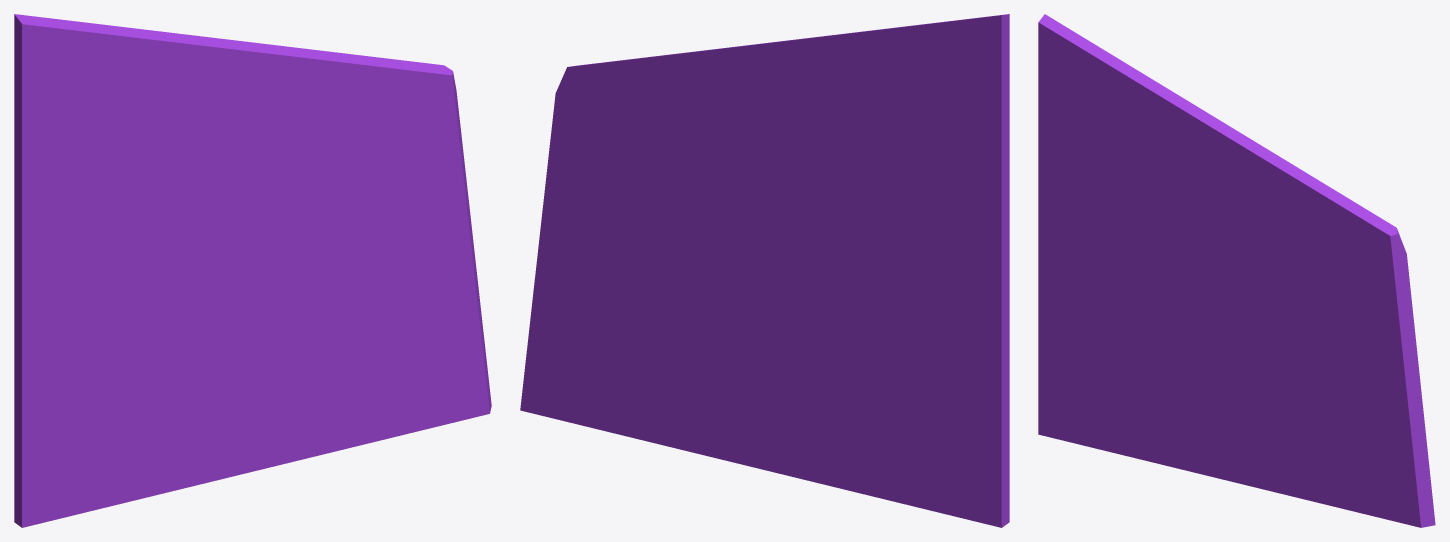
The model's file is Glass_2_0_chunks.fbx.
The picture shows the model from 3 angles, left to right: view 1: azimuth 30°, elevation 25°; view 2: azimuth 150°, elevation 25°; view 3: azimuth 330°, elevation 25°; orthographic projection. The views are drawn at different scales.
Visible parts, largest first — view 1: Glass_2_0_9, Glass_2_0_1, Glass_2_0_10, Glass_2_0_5, Glass_2_0_3, Glass_2_0_15, Glass_2_0_4, Glass_2_0_11, Glass_2_0_13, Glass_2_0_6, Glass_2_0_7, Glass_2_0_17 (+6 smaller); view 2: Glass_2_0_1, Glass_2_0_9, Glass_2_0_5, Glass_2_0_10, Glass_2_0_3, Glass_2_0_7, Glass_2_0_4, Glass_2_0_11, Glass_2_0_8, Glass_2_0_15, Glass_2_0_12, Glass_2_0_6 (+6 smaller); view 3: Glass_2_0_9, Glass_2_0_1, Glass_2_0_10, Glass_2_0_5, Glass_2_0_3, Glass_2_0_4, Glass_2_0_11, Glass_2_0_15, Glass_2_0_6, Glass_2_0_13, Glass_2_0_7, Glass_2_0_17 (+5 smaller).
Boxes of the visible parts, left/top/right/bottom form: Glass_2_0_9: left=14, top=335, right=246, bottom=527; Glass_2_0_1: left=14, top=63, right=206, bottom=284; Glass_2_0_10: left=209, top=236, right=410, bottom=472; Glass_2_0_5: left=319, top=212, right=491, bottom=432; Glass_2_0_3: left=202, top=50, right=374, bottom=242; Glass_2_0_15: left=14, top=250, right=188, bottom=338; Glass_2_0_4: left=301, top=60, right=408, bottom=268; Glass_2_0_11: left=14, top=14, right=169, bottom=125; Glass_2_0_13: left=168, top=41, right=320, bottom=104; Glass_2_0_6: left=402, top=114, right=476, bottom=276; Glass_2_0_7: left=369, top=56, right=460, bottom=179; Glass_2_0_17: left=187, top=225, right=297, bottom=306; Glass_2_0_1: left=816, top=58, right=1009, bottom=285; Glass_2_0_9: left=780, top=332, right=1009, bottom=527; Glass_2_0_5: left=520, top=206, right=709, bottom=433; Glass_2_0_10: left=615, top=232, right=814, bottom=473; Glass_2_0_3: left=644, top=50, right=819, bottom=243; Glass_2_0_7: left=551, top=57, right=649, bottom=206; Glass_2_0_4: left=626, top=57, right=732, bottom=263; Glass_2_0_11: left=855, top=14, right=1009, bottom=119; Glass_2_0_8: left=808, top=300, right=1009, bottom=364; Glass_2_0_15: left=838, top=252, right=1009, bottom=319; Glass_2_0_12: left=728, top=71, right=873, bottom=138; Glass_2_0_6: left=536, top=130, right=606, bottom=269; Glass_2_0_9: left=1038, top=279, right=1221, bottom=479; Glass_2_0_1: left=1038, top=58, right=1189, bottom=273; Glass_2_0_10: left=1191, top=306, right=1355, bottom=511; Glass_2_0_5: left=1281, top=327, right=1435, bottom=527; Glass_2_0_3: left=1186, top=165, right=1334, bottom=289; Glass_2_0_4: left=1266, top=193, right=1354, bottom=341; Glass_2_0_11: left=1038, top=14, right=1158, bottom=157; Glass_2_0_15: left=1038, top=236, right=1174, bottom=333; Glass_2_0_6: left=1349, top=270, right=1422, bottom=409; Glass_2_0_13: left=1158, top=116, right=1293, bottom=184; Glass_2_0_7: left=1333, top=190, right=1409, bottom=304; Glass_2_0_17: left=1173, top=282, right=1263, bottom=339.
Size of the model in its own units: 949 by 965 by 27.2.
